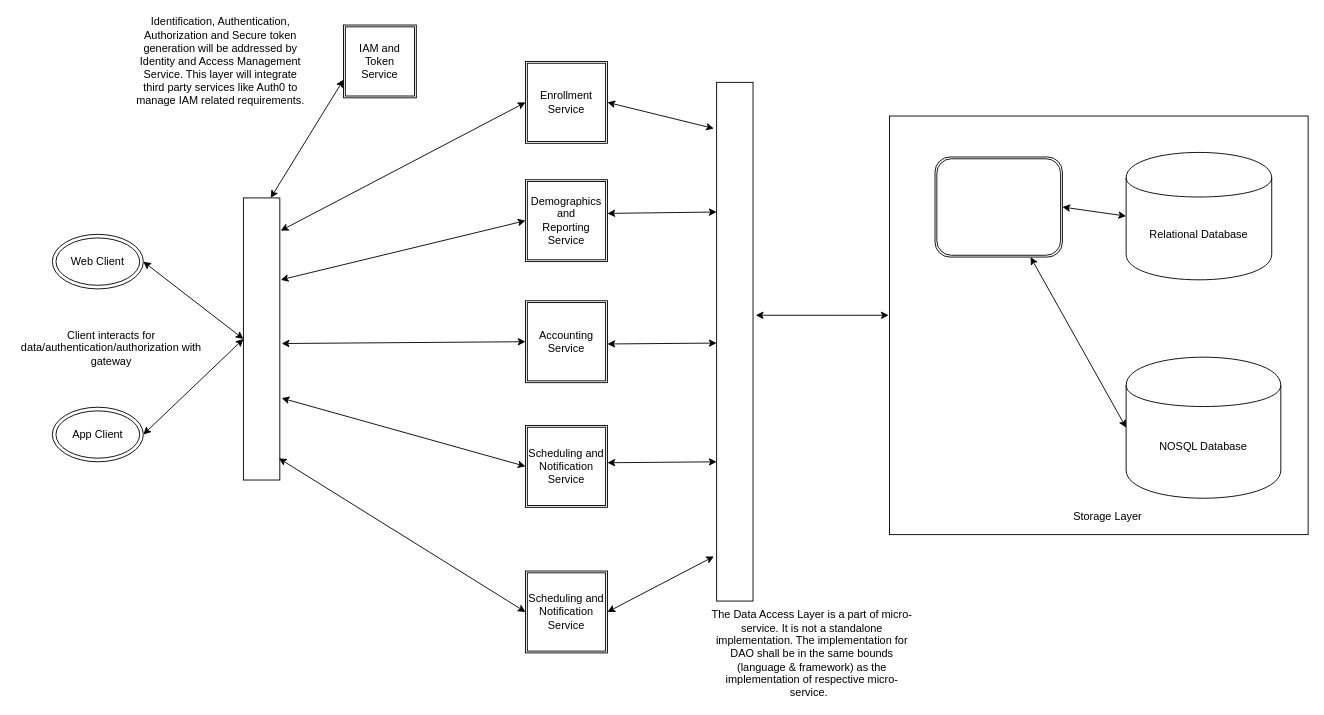
This 1324x715 diagram has some shape labels left out. The shapes that lost their labels are listed below. From the top down, each one's centre as x and y in pixels, then its label:
[998,206]: In Memory Cache
[261,338]: A P I G A T E W A Y
[734,341]: D A T A A C C E S S L A Y E R
